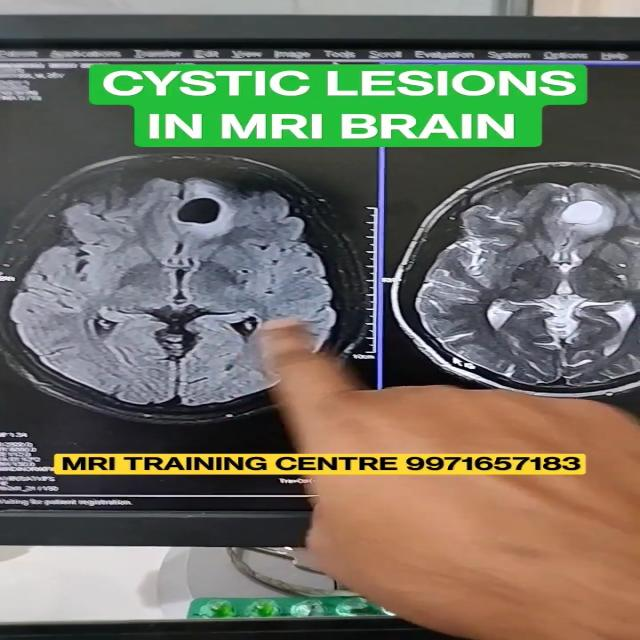tumor: (519, 186, 627, 240), (173, 184, 253, 241)
